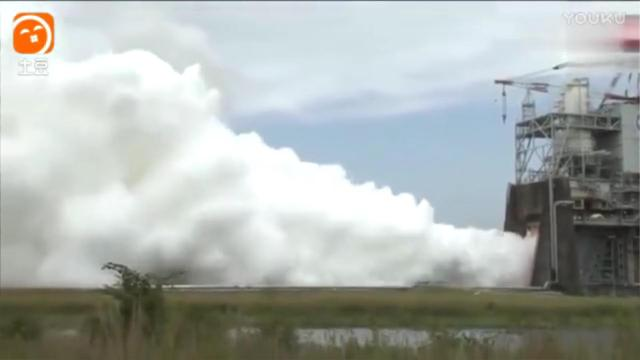smoke: (2, 73, 214, 287), (369, 187, 537, 288), (215, 132, 289, 288), (289, 155, 365, 287), (66, 48, 178, 74)
